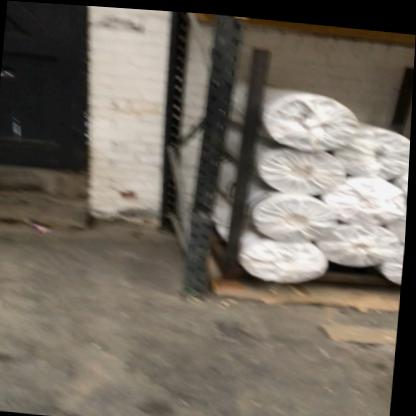vertical_damage: (182, 183, 232, 242)
